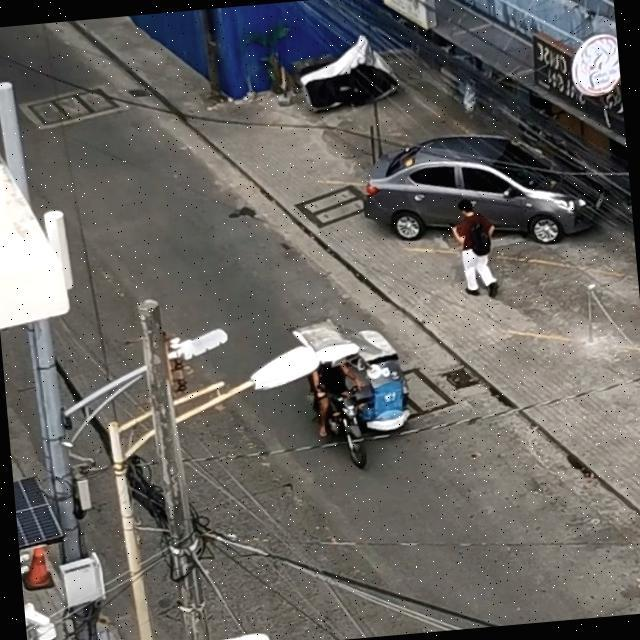Tricycle: (274, 316, 411, 466)
